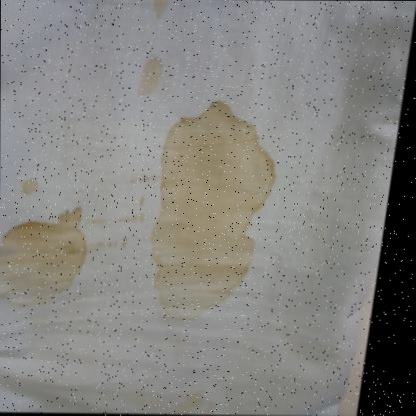coffee: (171, 124, 251, 282), (3, 228, 82, 298)
